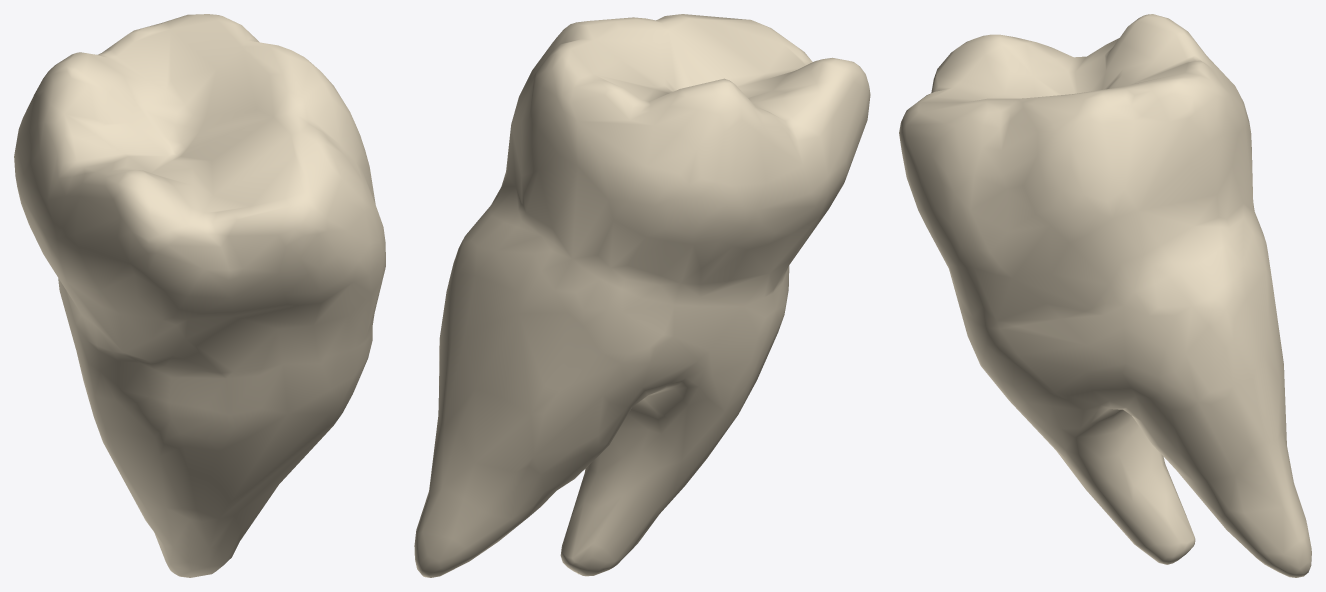
The model's file is lower-first-molar-tooth-l.glb.
The picture shows the model from 3 angles, left to right: view 1: azimuth 30°, elevation 25°; view 2: azimuth 150°, elevation 25°; view 3: azimuth 270°, elevation 25°; orthographic projection. The views are drawn at different scales.
Visible parts, largest first — view 1: Lower first molar tooth.l; view 2: Lower first molar tooth.l; view 3: Lower first molar tooth.l.
Boxes of the visible parts, left/top/right/bottom form: Lower first molar tooth.l: left=14, top=14, right=385, bottom=577; Lower first molar tooth.l: left=414, top=14, right=870, bottom=577; Lower first molar tooth.l: left=899, top=14, right=1311, bottom=577.
Bounding box in the file's own units: 0.0121 × 0.0192 × 0.0148.
